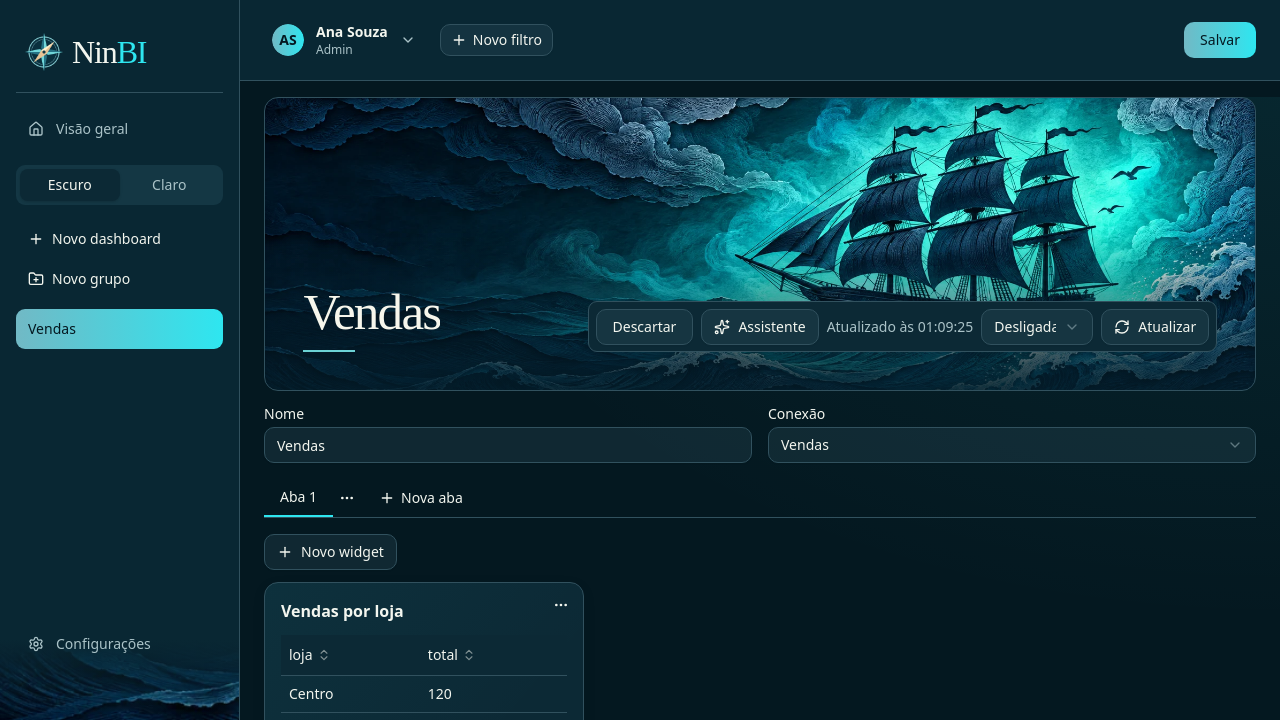
Scenario: DashboardPage com compartilhamento › ACL-13 salvar sem permissão mostra Você não tem mais permissão para editar este dashboard
Replace the text in the field labelled "Nome" with "Novo nome" at coordinates (508, 445), box [264,427,752,463]
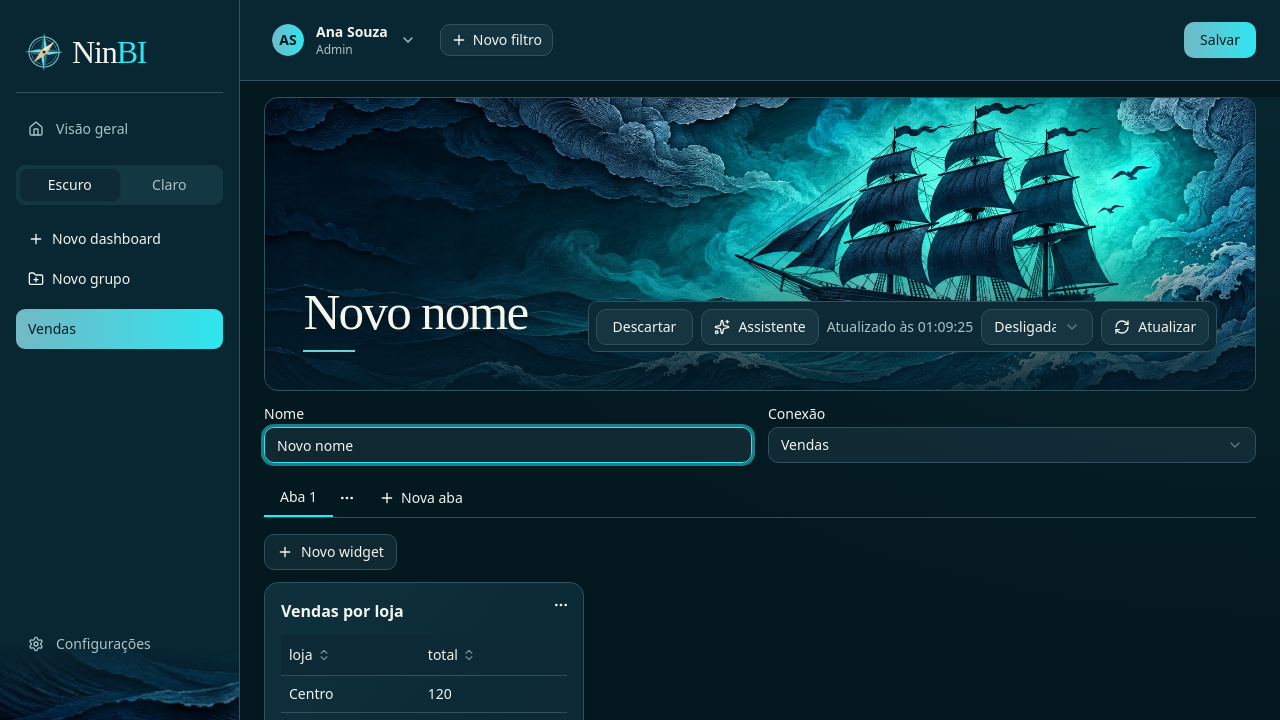
Click the button "Salvar" at coordinates (1220, 40), box [1184,22,1256,58]
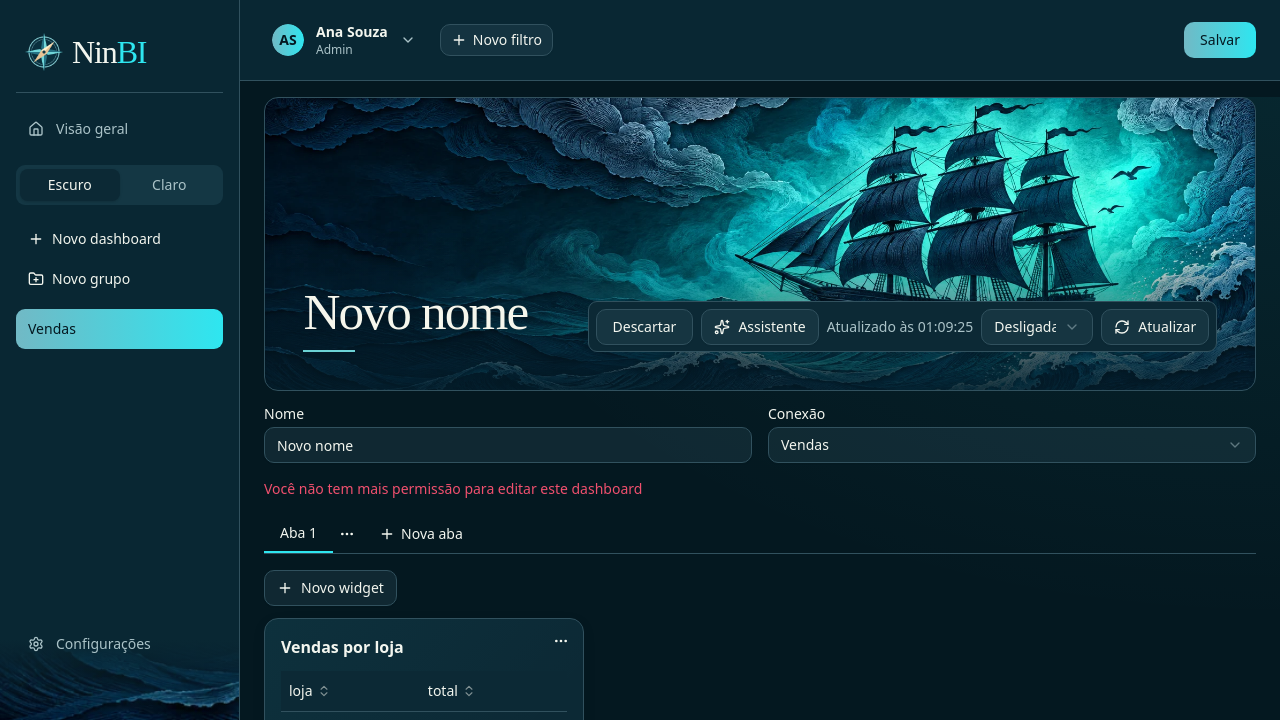
Now the text "Você não tem mais permissão para editar este dashboard" is shown, box [264,479,642,498]
